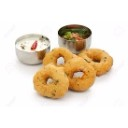vada: (34, 64, 70, 99), (66, 58, 96, 91), (79, 49, 113, 73), (45, 49, 75, 74)
